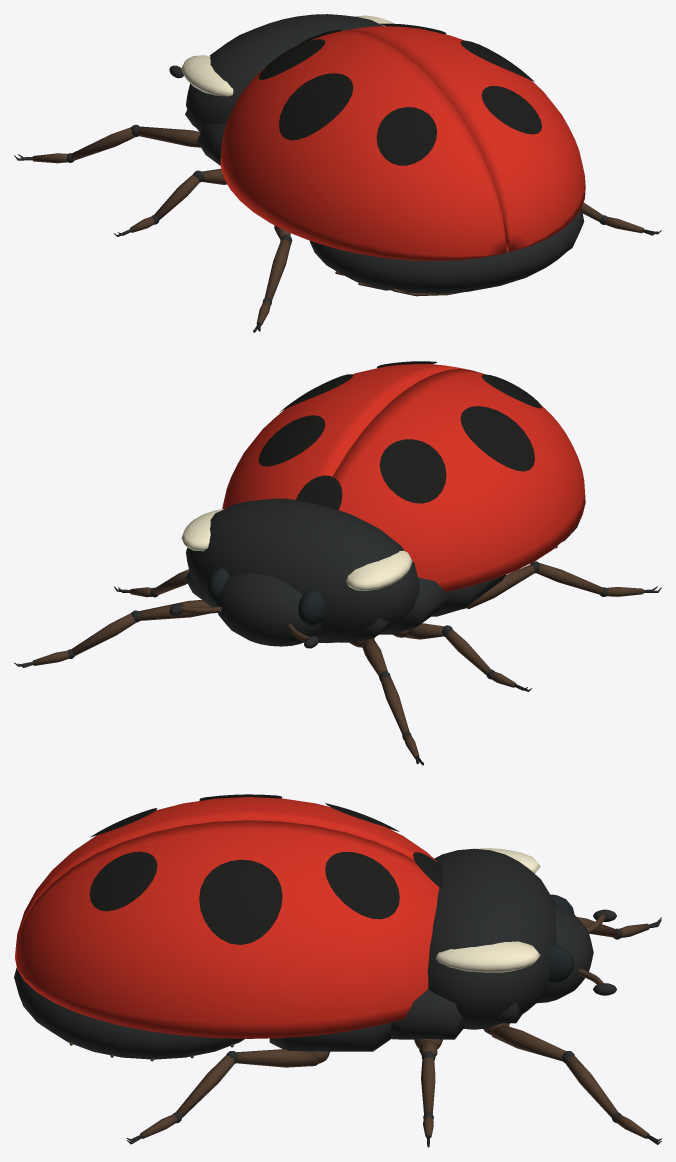
Rendered from Ladybird.fbx.
3 views of the same model, one above another, from view 1: azimuth 30°, elevation 25°; view 2: azimuth 150°, elevation 25°; view 3: azimuth 270°, elevation 25° (orthographic). The views are drawn at different scales.
Parts seen in each view (by area): view 1: Material group Ladybird_Red_elytra, Material group Ladybird_Dark_cuticle, Material group Ladybird_Black_markings, Material group Ladybird_Legs, Material group Ladybird_Cream_pronotum_marks; view 2: Material group Ladybird_Red_elytra, Material group Ladybird_Dark_cuticle, Material group Ladybird_Black_markings, Material group Ladybird_Legs, Material group Ladybird_Cream_pronotum_marks, Material group Ladybird_Eyes; view 3: Material group Ladybird_Red_elytra, Material group Ladybird_Dark_cuticle, Material group Ladybird_Black_markings, Material group Ladybird_Legs, Material group Ladybird_Cream_pronotum_marks, Material group Ladybird_Eyes.
Part boxes in pixels (x1,y1,x2,y2): Material group Ladybird_Red_elytra: [220, 26, 585, 261]; Material group Ladybird_Dark_cuticle: [14, 14, 661, 332]; Material group Ladybird_Black_markings: [258, 23, 541, 165]; Material group Ladybird_Legs: [32, 126, 643, 325]; Material group Ladybird_Cream_pronotum_marks: [181, 15, 394, 96]; Material group Ladybird_Red_elytra: [222, 364, 585, 591]; Material group Ladybird_Dark_cuticle: [14, 498, 661, 765]; Material group Ladybird_Black_markings: [258, 361, 541, 510]; Material group Ladybird_Legs: [32, 546, 643, 758]; Material group Ladybird_Cream_pronotum_marks: [181, 509, 412, 590]; Material group Ladybird_Eyes: [207, 568, 325, 625]; Material group Ladybird_Red_elytra: [15, 797, 439, 1038]; Material group Ladybird_Dark_cuticle: [14, 848, 661, 1147]; Material group Ladybird_Black_markings: [89, 794, 442, 944]; Material group Ladybird_Legs: [69, 914, 649, 1138]; Material group Ladybird_Cream_pronotum_marks: [435, 848, 540, 972]; Material group Ladybird_Eyes: [549, 894, 574, 982].
Size of the model in its own units: 0.834 by 0.3673 by 1.
